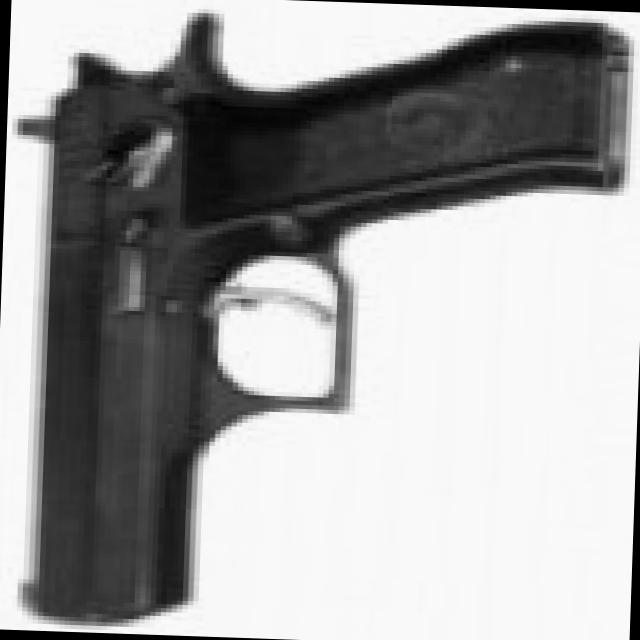handgun: (6, 1, 618, 638)
